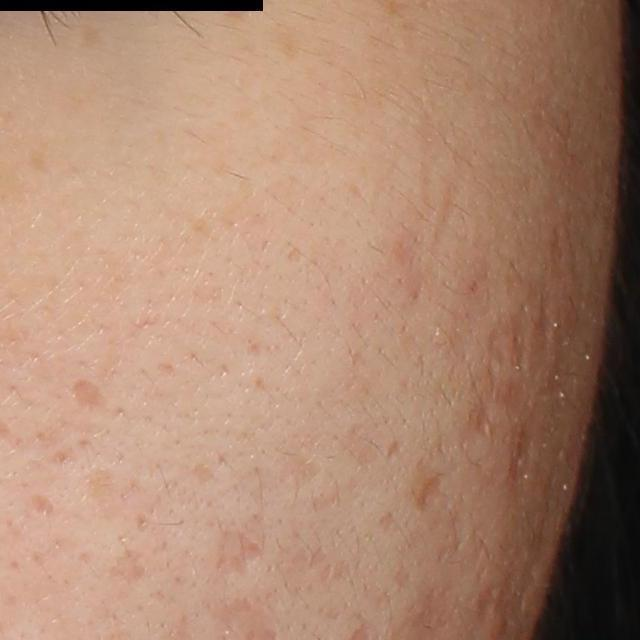atrophic_scar: (214, 528, 273, 575), (507, 417, 538, 481), (106, 546, 148, 586), (409, 471, 443, 513), (70, 376, 112, 409), (466, 398, 498, 440), (28, 494, 54, 515), (384, 438, 404, 458)
melasma: (78, 22, 108, 50)
